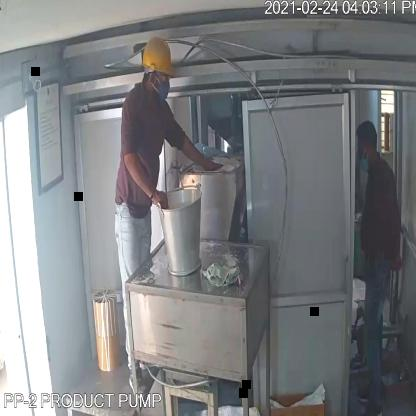helmet: (141, 38, 174, 76)
